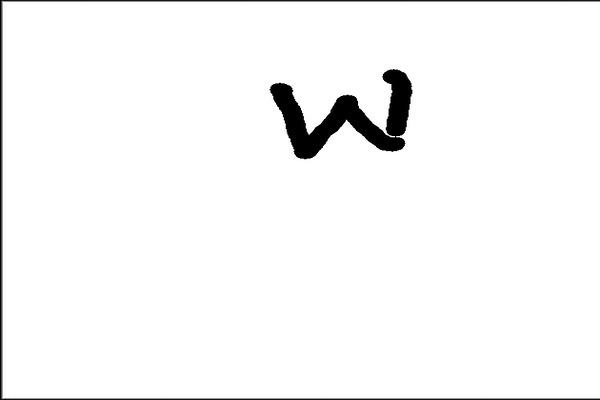w: (257, 63, 425, 174)
